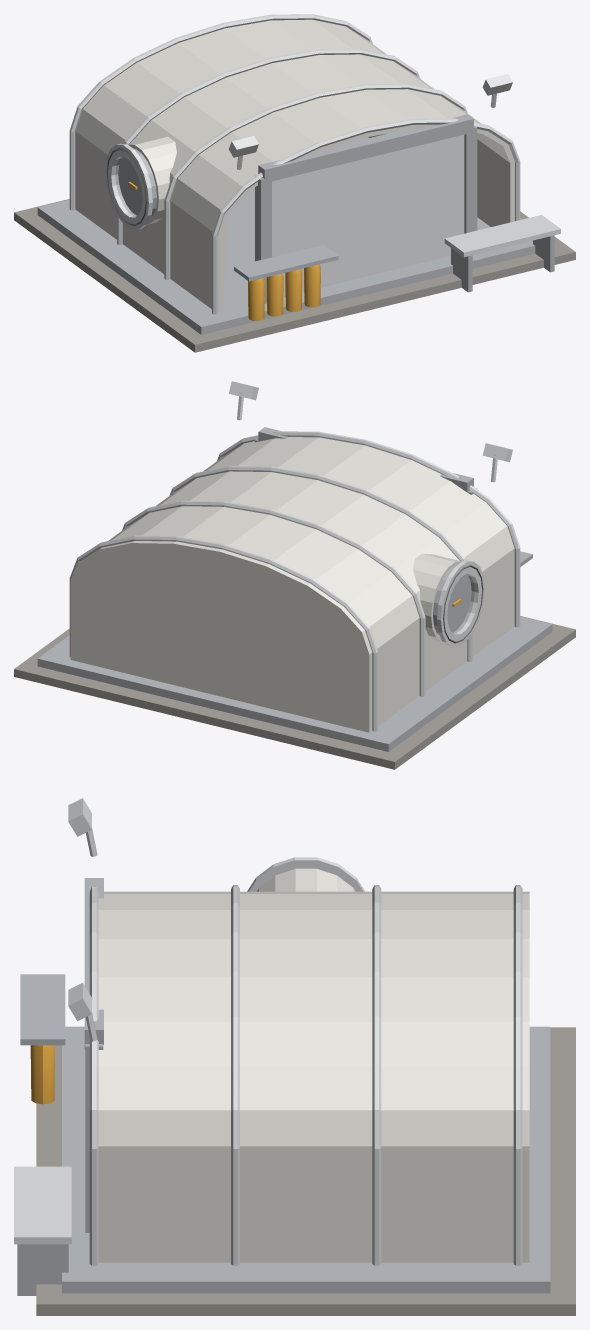
The model's file is workshop-module-7729780d.glb.
The picture shows the model from 3 angles, top to bottom: view 1: azimuth 30°, elevation 25°; view 2: azimuth 150°, elevation 25°; view 3: azimuth 270°, elevation 25°; orthographic projection. The views are drawn at different scales.
Parts seen in each view (by area): view 1: workshop-module, door-roll; view 2: workshop-module; view 3: workshop-module.
Boxes of the visible parts, x1=… form: workshop-module: x1=14, y1=14, x2=575, y2=352; door-roll: x1=272, y1=134, x2=464, y2=296; workshop-module: x1=14, y1=381, x2=575, y2=769; workshop-module: x1=14, y1=798, x2=575, y2=1315.
Bounding box in the file's own units: 10.2 × 4.79 × 8.75.
